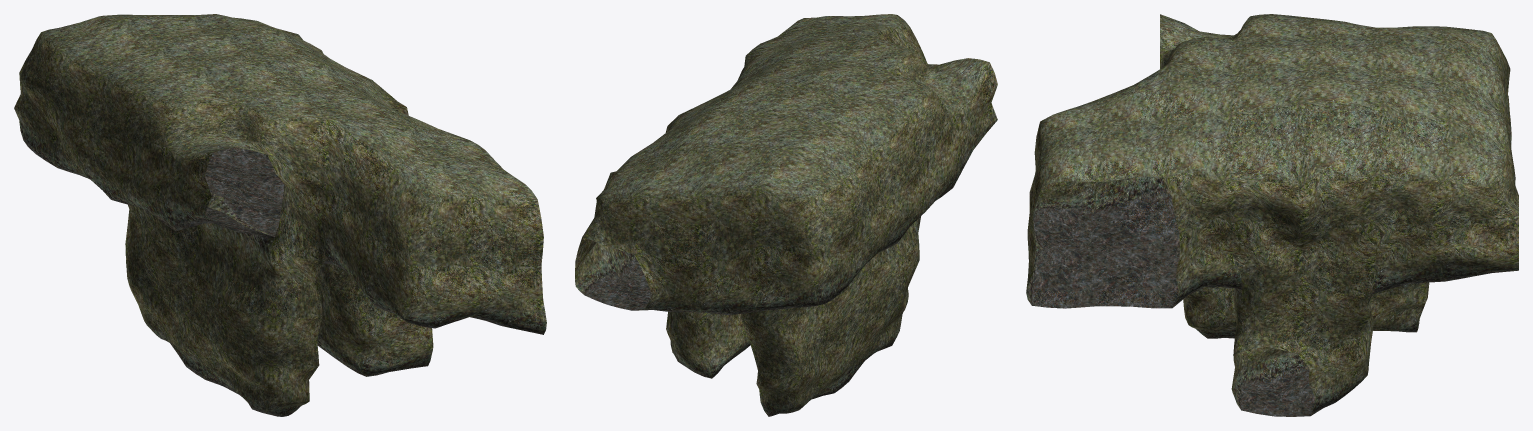
Rendered from thm_all_cave_flatland_s02_damprock_r2_mesh_r2.fbx.
The picture shows the model from 3 angles, left to right: view 1: azimuth 30°, elevation 25°; view 2: azimuth 150°, elevation 25°; view 3: azimuth 270°, elevation 25°; orthographic projection. The views are drawn at different scales.
Visible parts, largest first — view 1: mesh_node; view 2: mesh_node; view 3: mesh_node.
Boxes of the visible parts, x1,y1,x2,y2 form: mesh_node: [14, 14, 546, 416]; mesh_node: [575, 14, 997, 416]; mesh_node: [1026, 14, 1518, 416].
Bounding box in the file's own units: 43.2 × 47.58 × 71.62.
